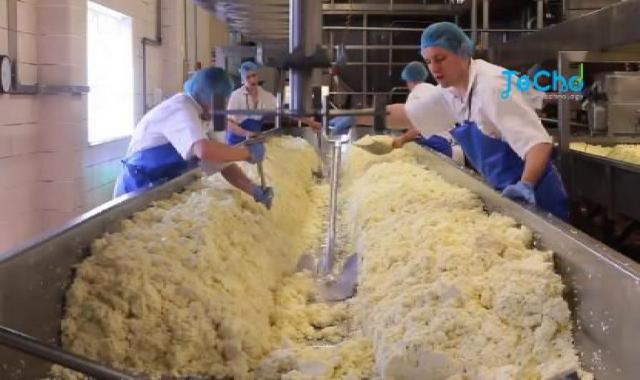hairnet: (418, 18, 492, 68), (181, 63, 225, 105), (395, 59, 430, 88), (240, 50, 264, 90)
